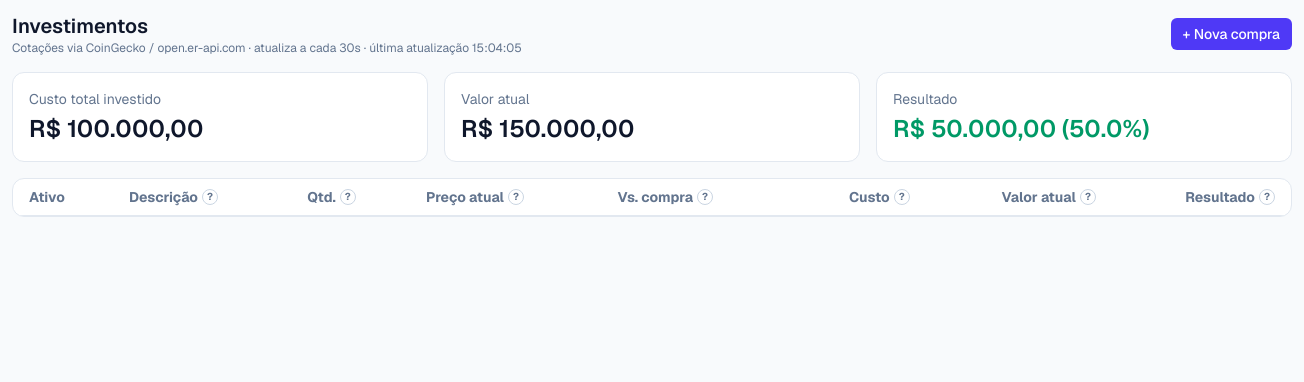
Test: página /investimentos — dicas de ajuda › a dica do preço explica que é o valor de UMA unidade em reais
Expected: the text "Custo total investido" is shown, [29,90,161,108]
Click the button "+ Nova compra" at coordinates (1231, 34), box [1170,18,1292,50]
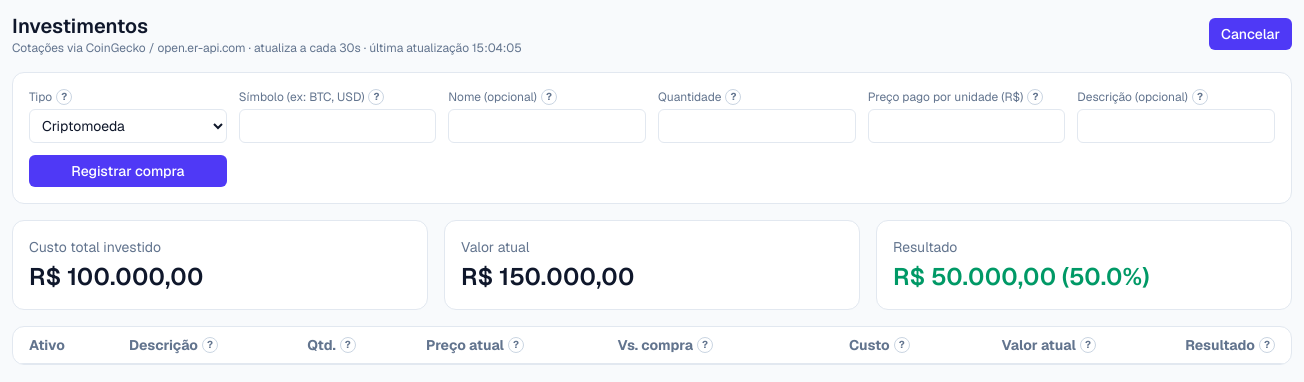
Hover over the button named "ajuda sobre Preço pago por unidade" at coordinates (1035, 97), box [1027,89,1043,105]
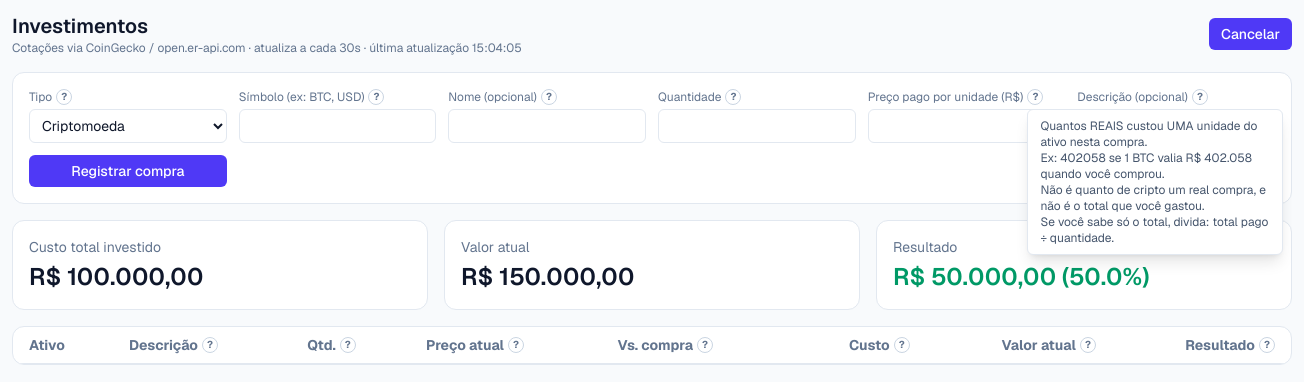
Result: the tooltip shows "UMA unidade" at [1040,118,1268,246]
Result: the tooltip shows "Não é quanto de cripto um real compra" at [1040,118,1268,246]
